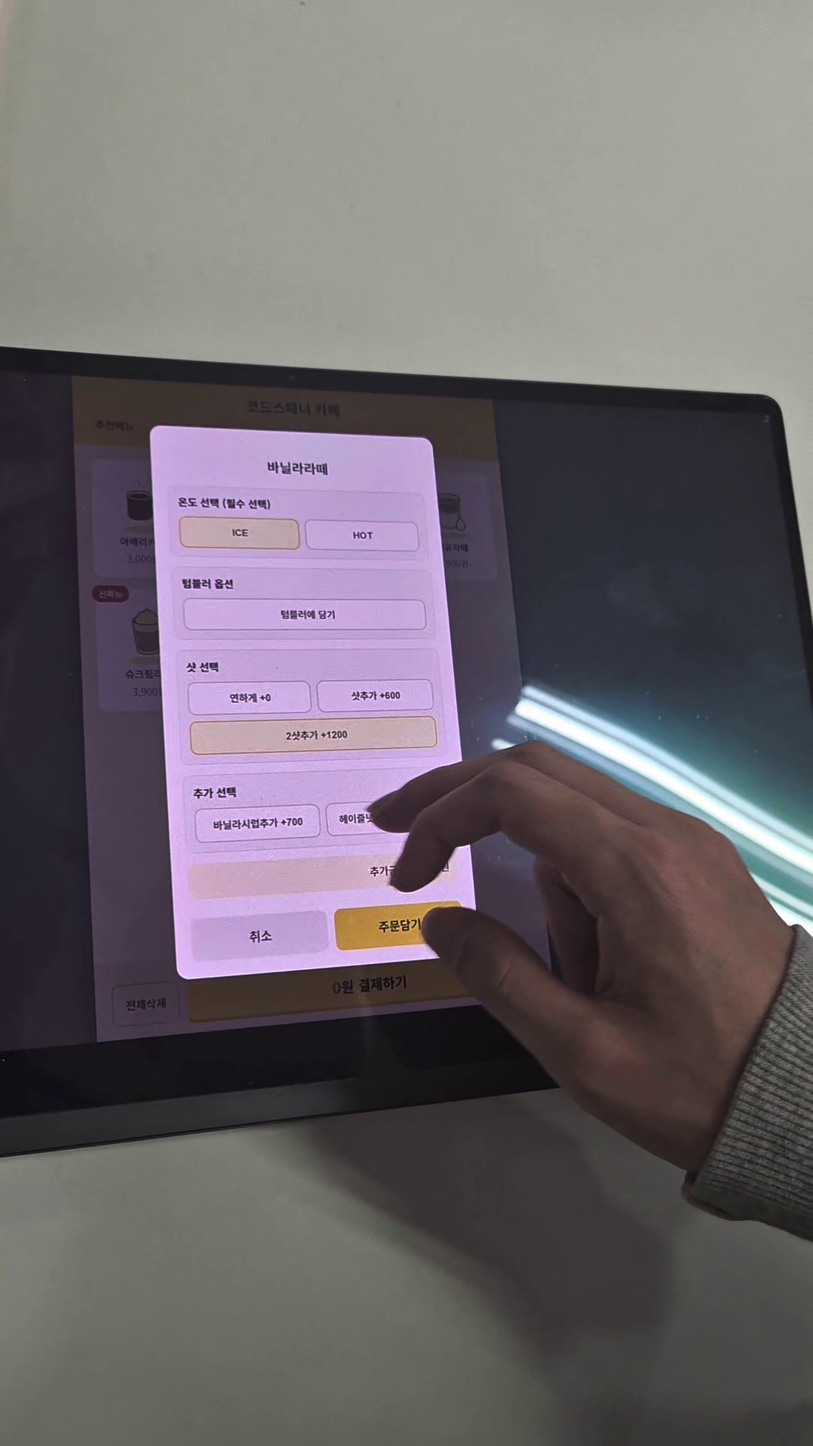action_button: (190, 911, 329, 959), (333, 902, 472, 950)
option_button: (190, 715, 437, 756), (180, 598, 426, 630), (194, 805, 320, 842), (188, 681, 311, 715), (179, 517, 299, 551), (318, 679, 433, 714), (306, 520, 419, 551)
popup_modal: (150, 424, 477, 981)
